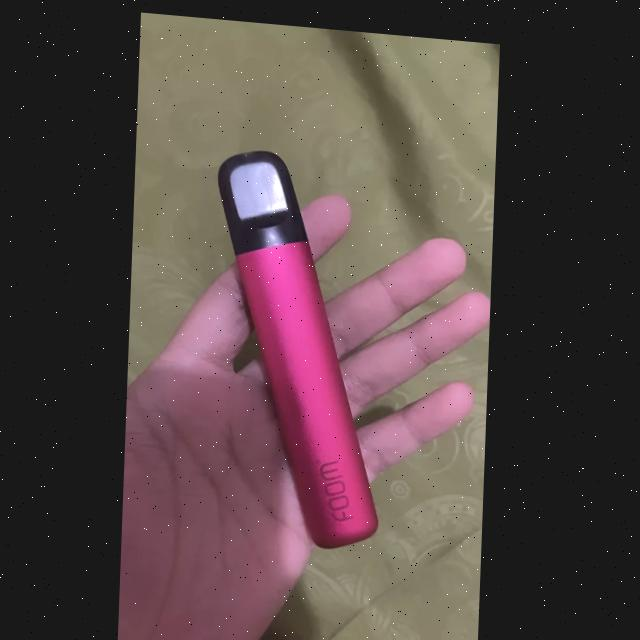vape: (208, 141, 393, 545)
